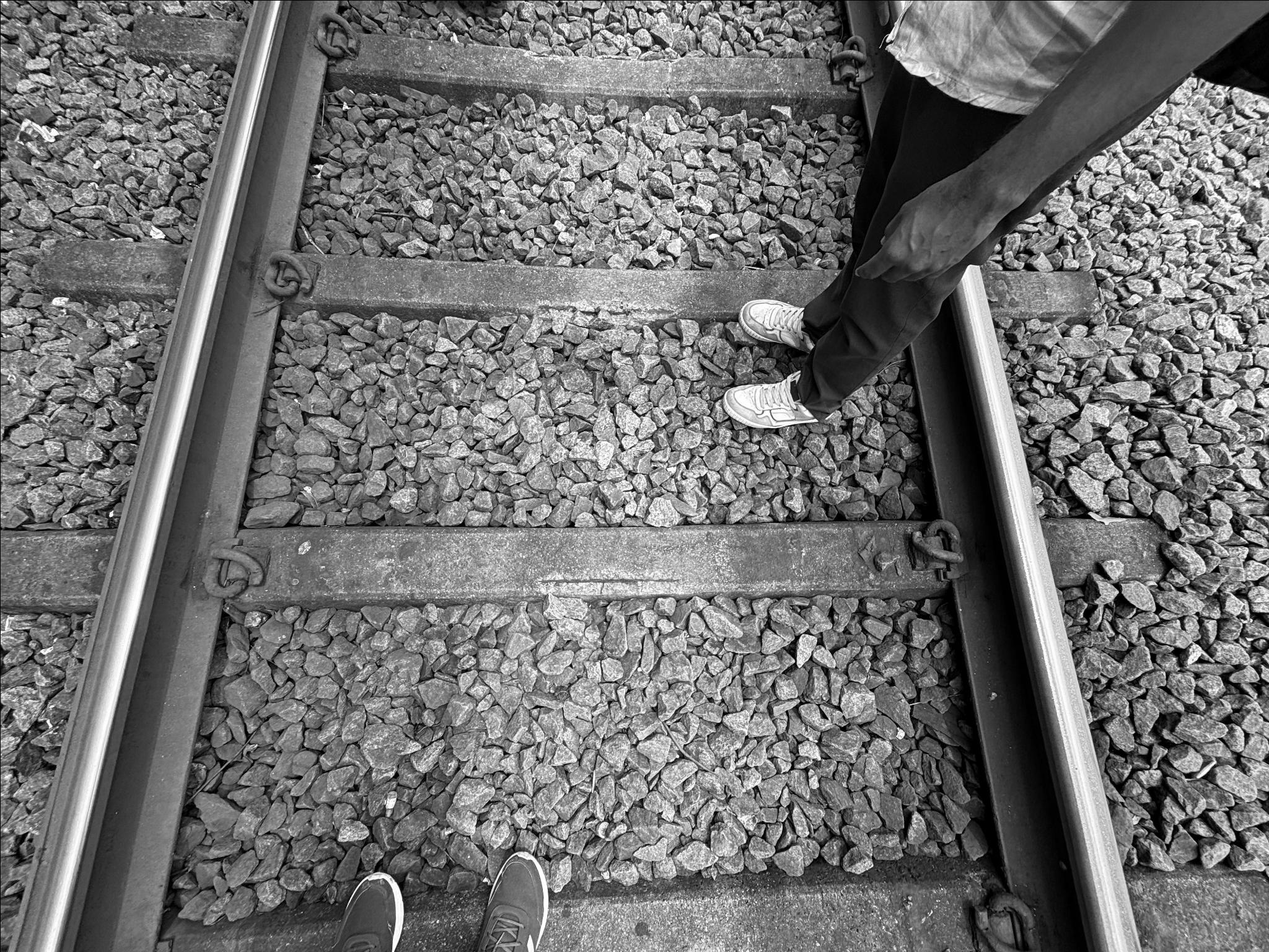cracks in midportion: (514, 552, 714, 603)
